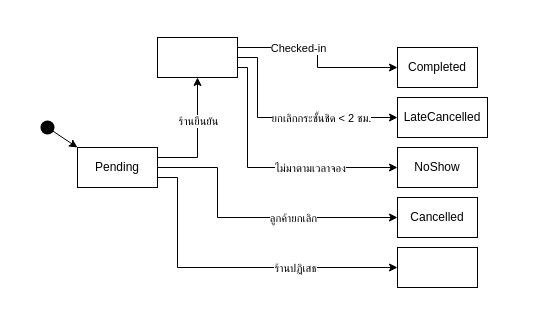
Some shapes in this 535 by 325 pixel diagram are drawn without their labels. Each missing label, with the box of its shape:
Confirmed: (156, 36, 238, 78)
Rejected: (396, 246, 478, 288)
